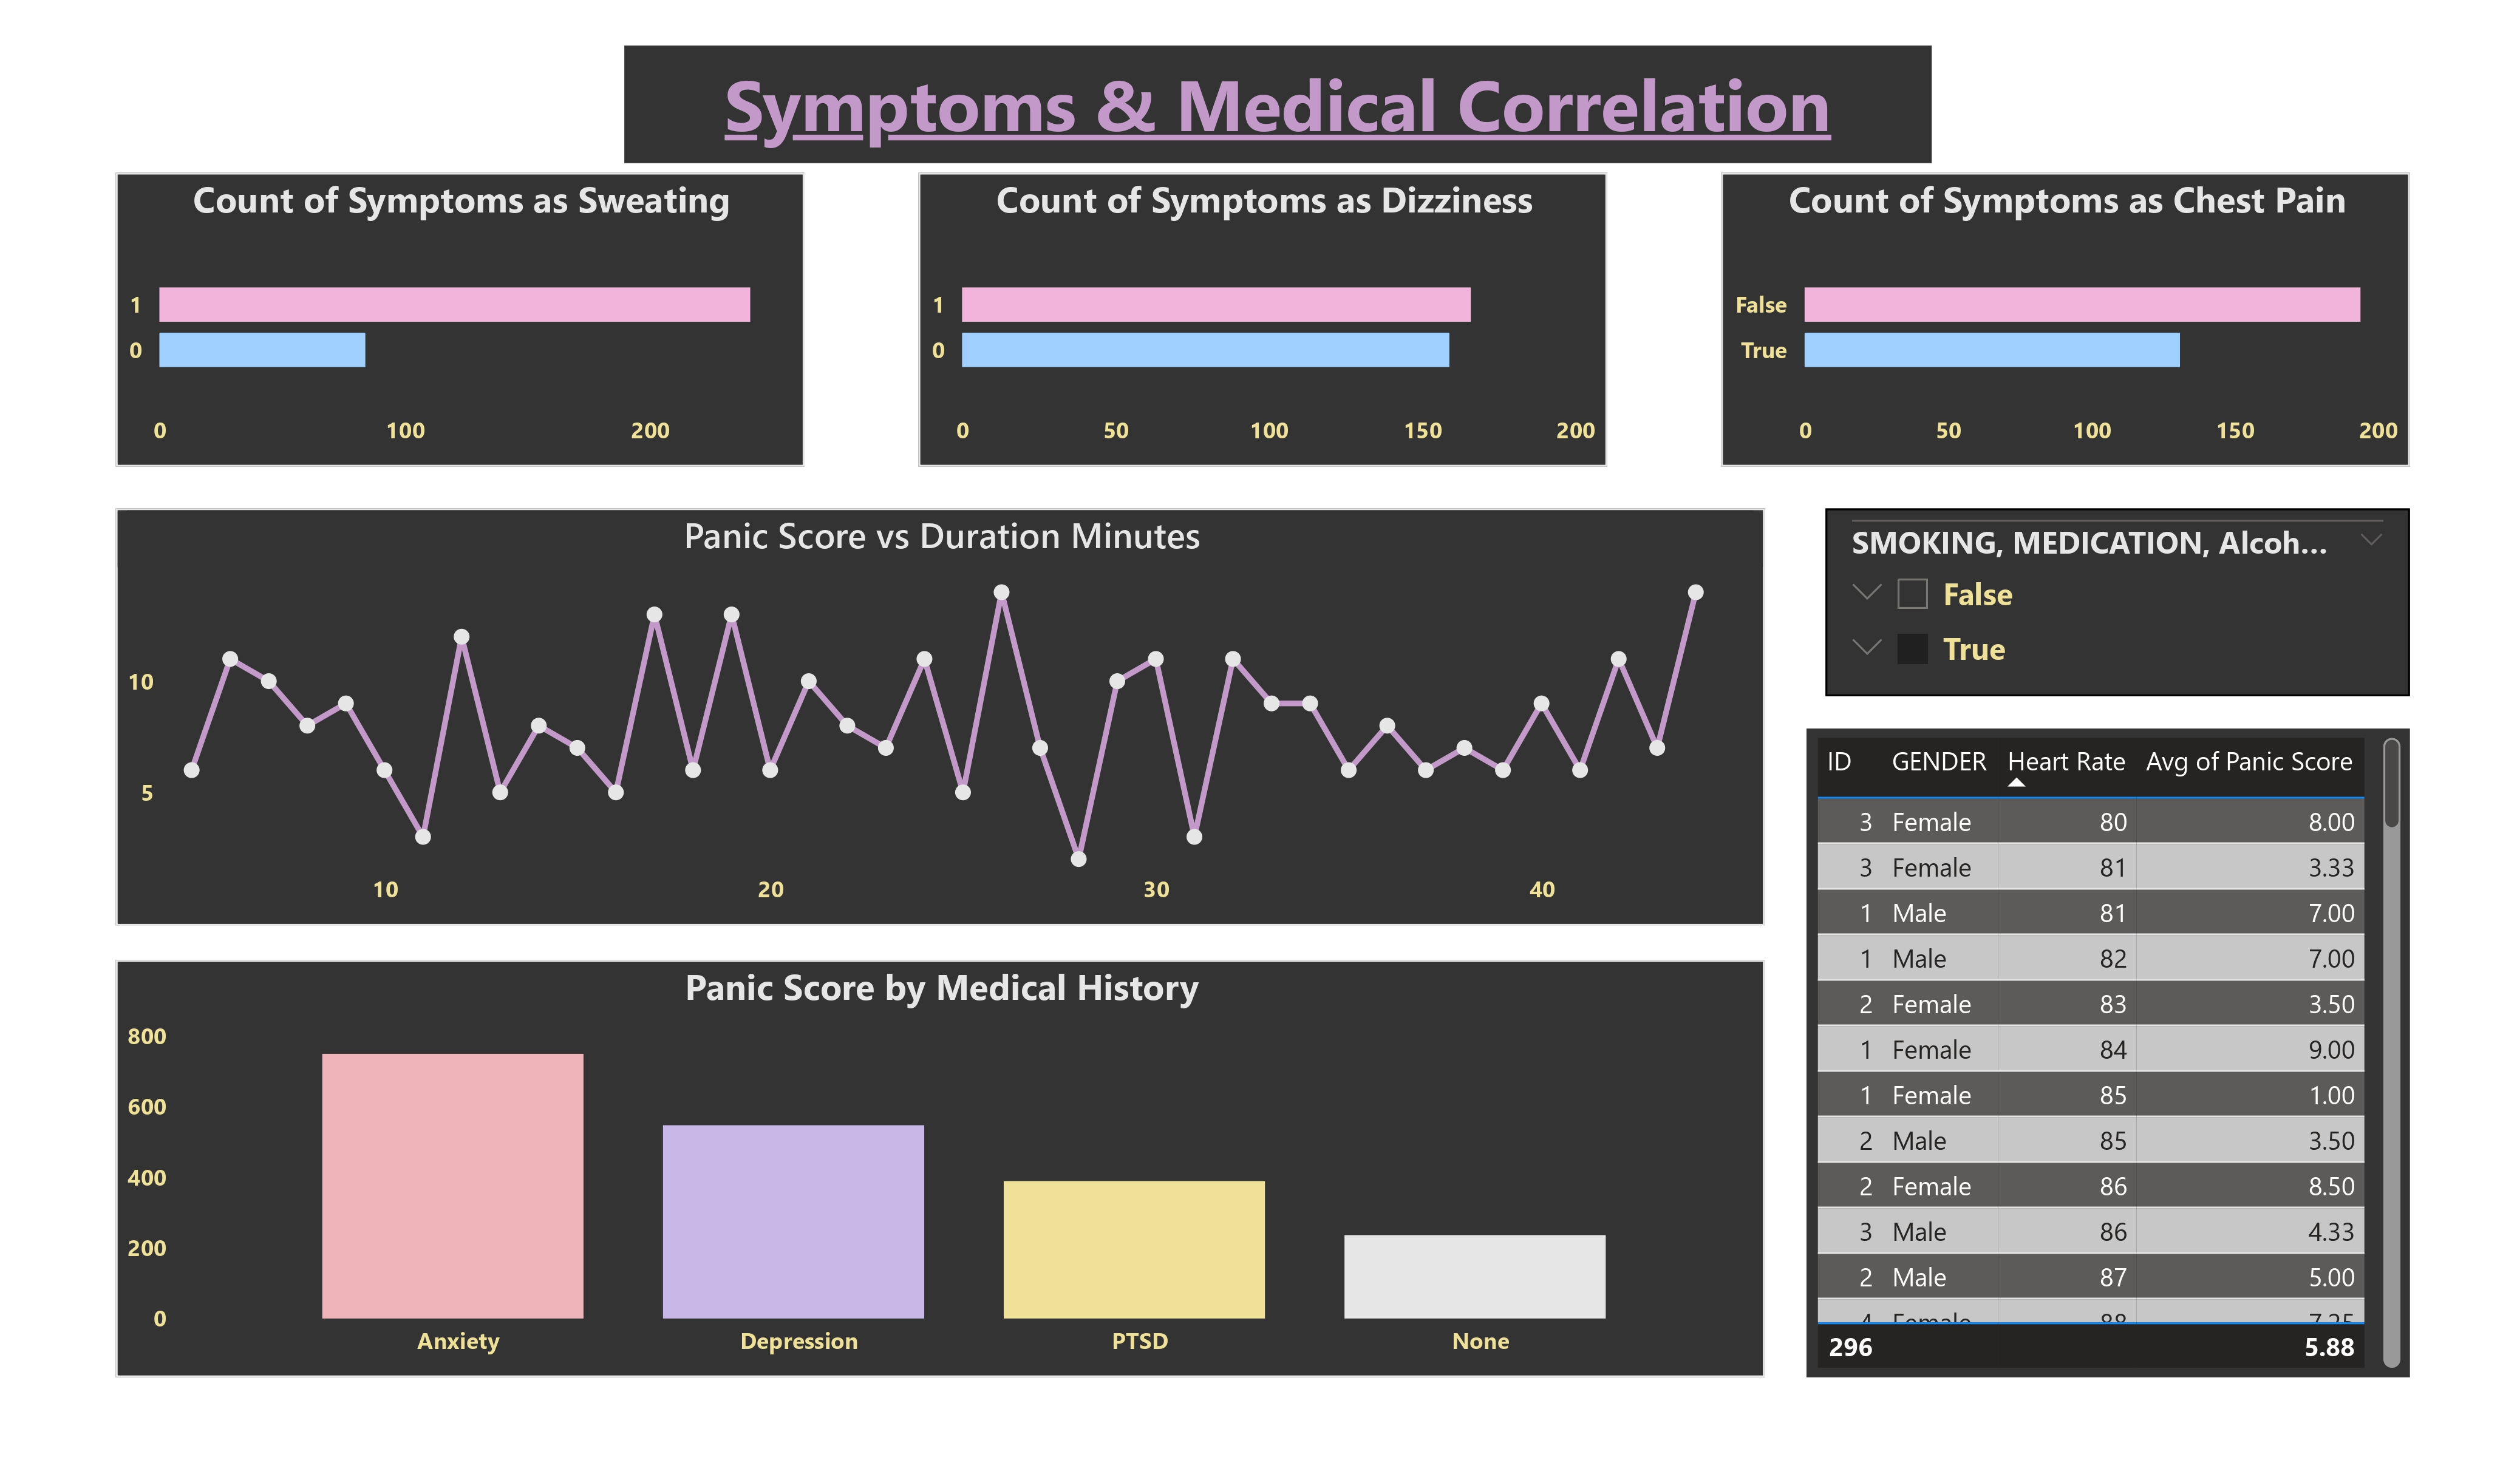

The dashboard page shown, as its layout file describes it:
{"tool":"powerbi","page":{"name":"Symptoms & Medical Correlation","canvas":[1280,720],"ordinal":1},"visuals":[{"type":"textbox","box":[304.5,0,689.5,61.8],"z":0},{"type":"barChart","title":"Count of Symptoms as Sweating ","fields":{"Category":["PANIC_ATTACK_DATA.SWEATING"],"Y":["CountNonNull(PANIC_ATTACK_DATA.ID)"]},"box":[37.1,66.9,363.3,154.6],"z":1000},{"type":"barChart","title":"Count of Symptoms as Dizziness","fields":{"Y":["CountNonNull(PANIC_ATTACK_DATA.ID)"],"Category":["PANIC_ATTACK_DATA.DIZZINESS"]},"box":[459.9,66.9,363.3,154.6],"z":2000},{"type":"barChart","title":"Count of Symptoms as Chest Pain","fields":{"Y":["CountNonNull(PANIC_ATTACK_DATA.ID)"],"Category":["PANIC_ATTACK_DATA.CHEST_PAIN"]},"box":[882.7,66.9,363.3,154.6],"z":3000},{"type":"lineClusteredColumnComboChart","title":"Panic Score by Medical History","fields":{"Y":["Sum(PANIC_ATTACK_DATA.PANIC_SCORE)"],"Category":["PANIC_ATTACK_DATA.MEDICAL_HISTORY"]},"box":[37.1,482.3,868.8,219.5],"z":4000},{"type":"tableEx","fields":{"Values":["CountNonNull(PANIC_ATTACK_DATA.ID)","PANIC_ATTACK_DATA.GENDER","PANIC_ATTACK_DATA.HEART_RATE","Avg(PANIC_ATTACK_DATA.PANIC_SCORE)"]},"box":[927.5,360.2,318.5,341.6],"z":5000},{"type":"lineChart","title":"Panic Score vs Duration Minutes","fields":{"Y":["CountNonNull(PANIC_ATTACK_DATA.PANIC_SCORE)"],"Category":["PANIC_ATTACK_DATA.DURATION_MINUTES"]},"box":[37.1,244.3,868.8,219.5],"z":6000},{"type":"slicer","fields":{"Values":["PANIC_ATTACK_DATA.SMOKING","PANIC_ATTACK_DATA.MEDICATION","PANIC_ATTACK_DATA.ALCOHOL_CONSUMPTION"]},"box":[938.4,244.3,307.6,98.9],"z":7000}]}

Visuals, with their boxes in screenshot pixels (x1, y1, x2, y2):
textbox: 624/46/1932/163
"Count of Symptoms as Sweating " barChart: 116/172/805/466
"Count of Symptoms as Dizziness" barChart: 918/172/1608/466
"Count of Symptoms as Chest Pain" barChart: 1720/172/2410/466
"Panic Score by Medical History" lineClusteredColumnComboChart: 116/960/1765/1377
tableEx - CountNonNull(PANIC_ATTACK_DATA.ID) x PANIC_ATTACK_DATA.GENDER: 1805/729/2410/1377
"Panic Score vs Duration Minutes" lineChart: 116/509/1765/925
slicer - PANIC_ATTACK_DATA.SMOKING x PANIC_ATTACK_DATA.MEDICATION: 1827/509/2410/697
